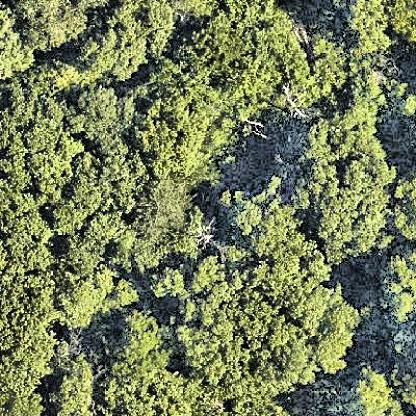tree-top: (183, 296, 309, 402), (224, 189, 327, 304), (184, 3, 291, 102), (307, 154, 398, 262), (57, 150, 129, 260), (0, 85, 71, 192), (135, 89, 218, 174), (304, 78, 388, 160), (80, 3, 178, 70), (0, 269, 52, 388), (109, 306, 176, 376), (308, 296, 364, 379), (102, 365, 191, 416), (342, 0, 416, 56), (55, 266, 116, 333), (0, 195, 49, 277), (72, 82, 131, 148), (14, 0, 93, 48), (132, 174, 184, 244), (0, 10, 34, 92), (350, 368, 406, 416), (45, 362, 94, 416), (379, 252, 416, 318), (148, 264, 193, 306)
